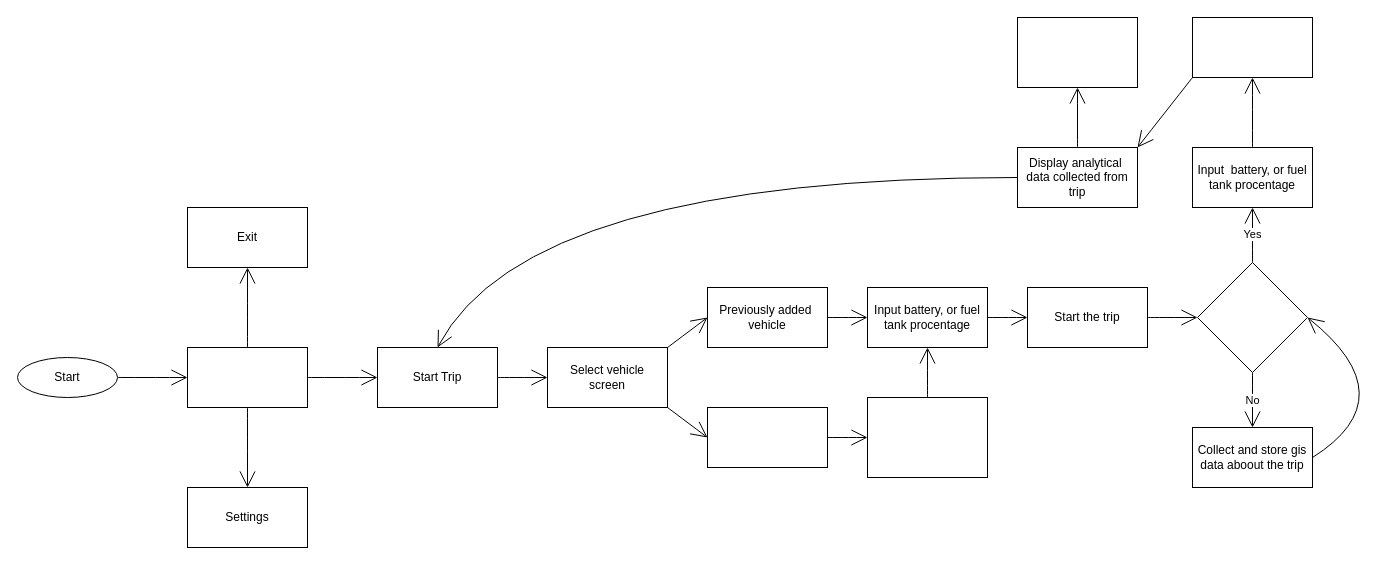
Some shapes in this 1377 by 565 pixel diagram are drawn without their labels. Here are the shapes that lost their labels. From the top down, the centre of each, then its label:
pixel 1077 52: Update data about that car model fuel consumption analytics
pixel 1252 47: Send collected data to server, show success screen
pixel 1252 317: User stopped trip?
pixel 247 377: Main Screen
pixel 767 437: Add new vehicle
pixel 927 437: Select vehicle parameters (make, model, year of production)
